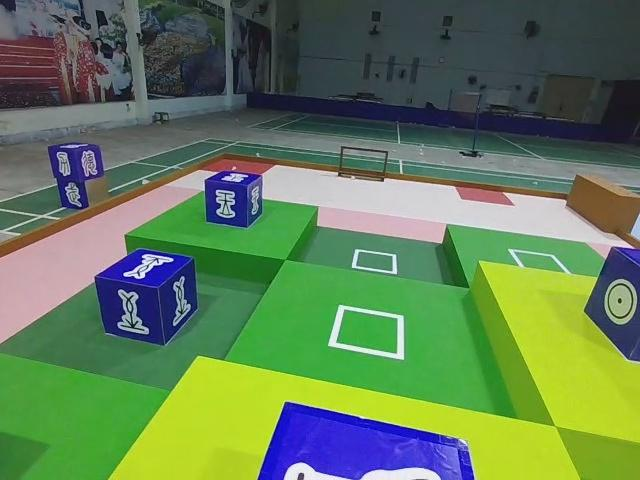R2 Fake Blue: (47, 142, 105, 183)
R2 Real Blue: (95, 247, 199, 346), (584, 249, 640, 375), (203, 171, 264, 232)
